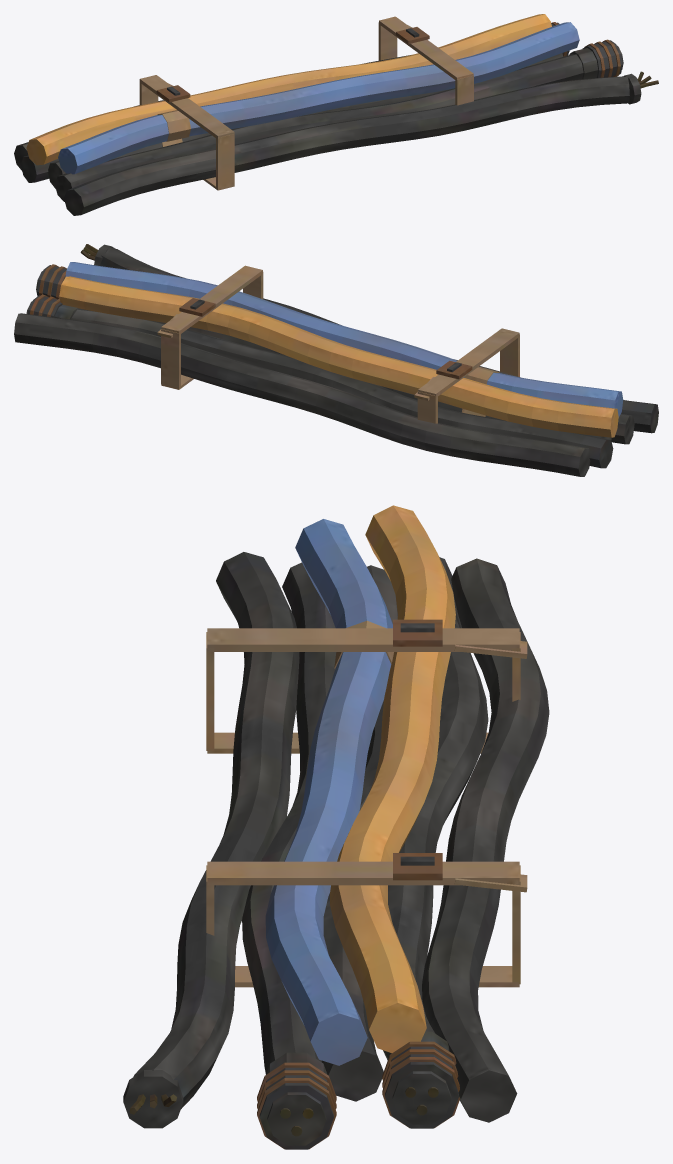
The model's file is A11_cable_bundle.glb.
3 views of the same model, one above another, from view 1: azimuth 30°, elevation 25°; view 2: azimuth 150°, elevation 25°; view 3: azimuth 270°, elevation 25° (orthographic). The views are drawn at different scales.
Visible parts, largest first — view 1: Heavy insulated cable; view 2: Heavy insulated cable; view 3: Heavy insulated cable.
Part boxes in pixels (box(x1,y1,x2,y2)): Heavy insulated cable: box(14, 14, 658, 215); Heavy insulated cable: box(14, 244, 658, 476); Heavy insulated cable: box(123, 505, 549, 1149).
Size of the model in its own units: 3 by 0.3229 by 0.9875.
7 materials, 7 textured.
